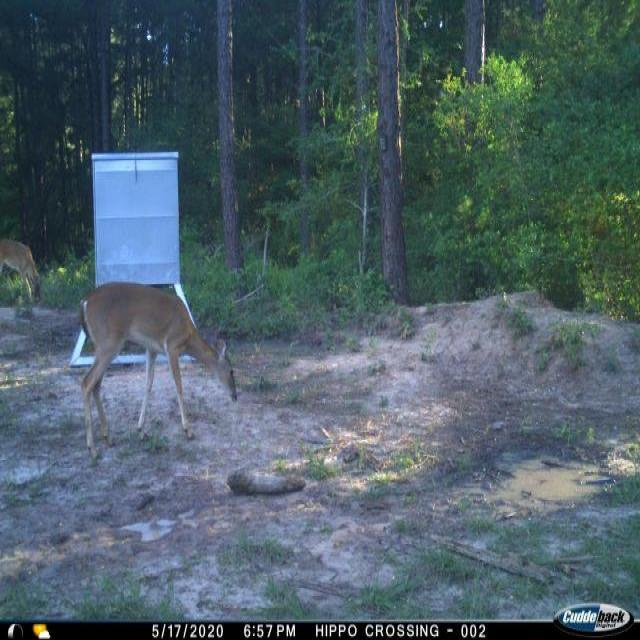deer: (74, 279, 240, 460), (0, 232, 45, 307)
